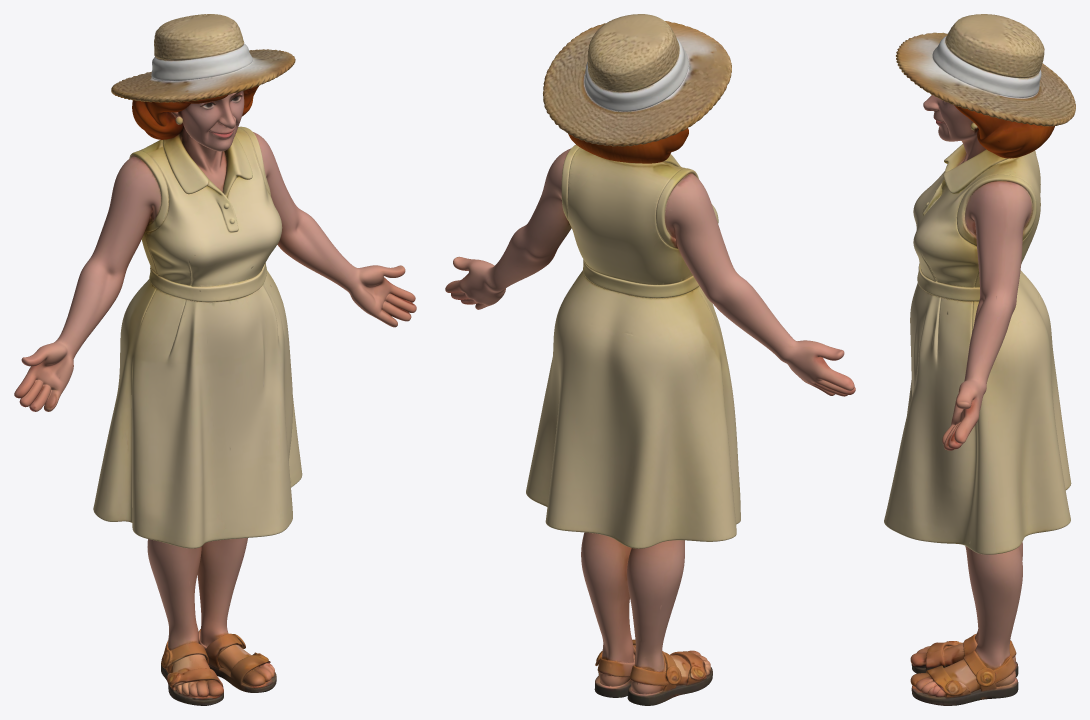
3 renders of one model, left to right at view 1: azimuth 30°, elevation 25°; view 2: azimuth 150°, elevation 25°; view 3: azimuth 270°, elevation 25°, orthographic. The views are drawn at different scales.
Parts seen in each view (by area): view 1: node_0; view 2: node_0; view 3: node_0.
Part boxes in pixels (x1,y1,x2,y2): node_0: (14,14,416,705); node_0: (445,14,855,705); node_0: (884,14,1075,705).
Bounding box in the file's own units: 24762 × 38618 × 10175.
1 material, 1 textured.
